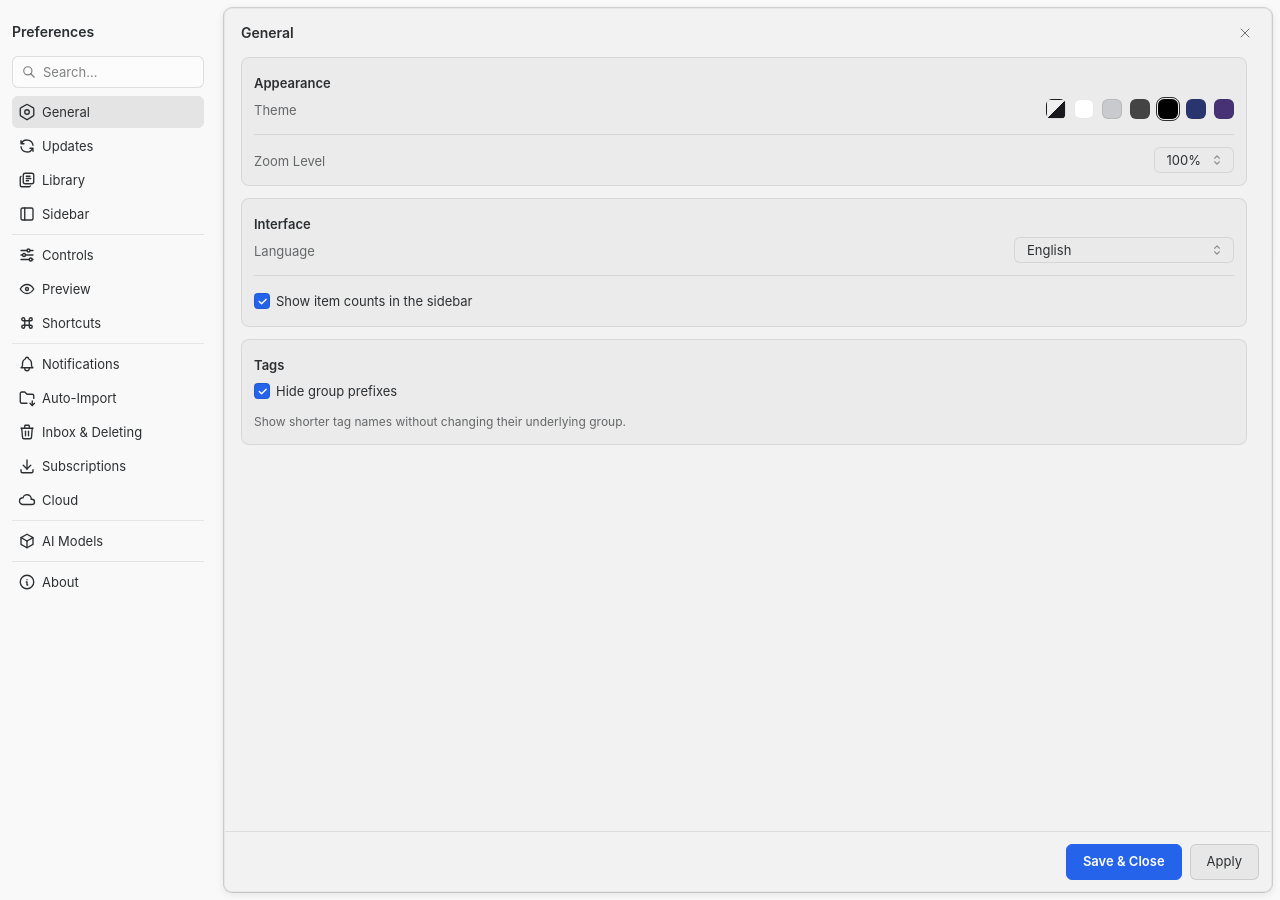
Test: Settings › uses the category registry to find and open custom panels
In the search field named "Search settings": (108, 72) [12, 56, 204, 88], type "theme"
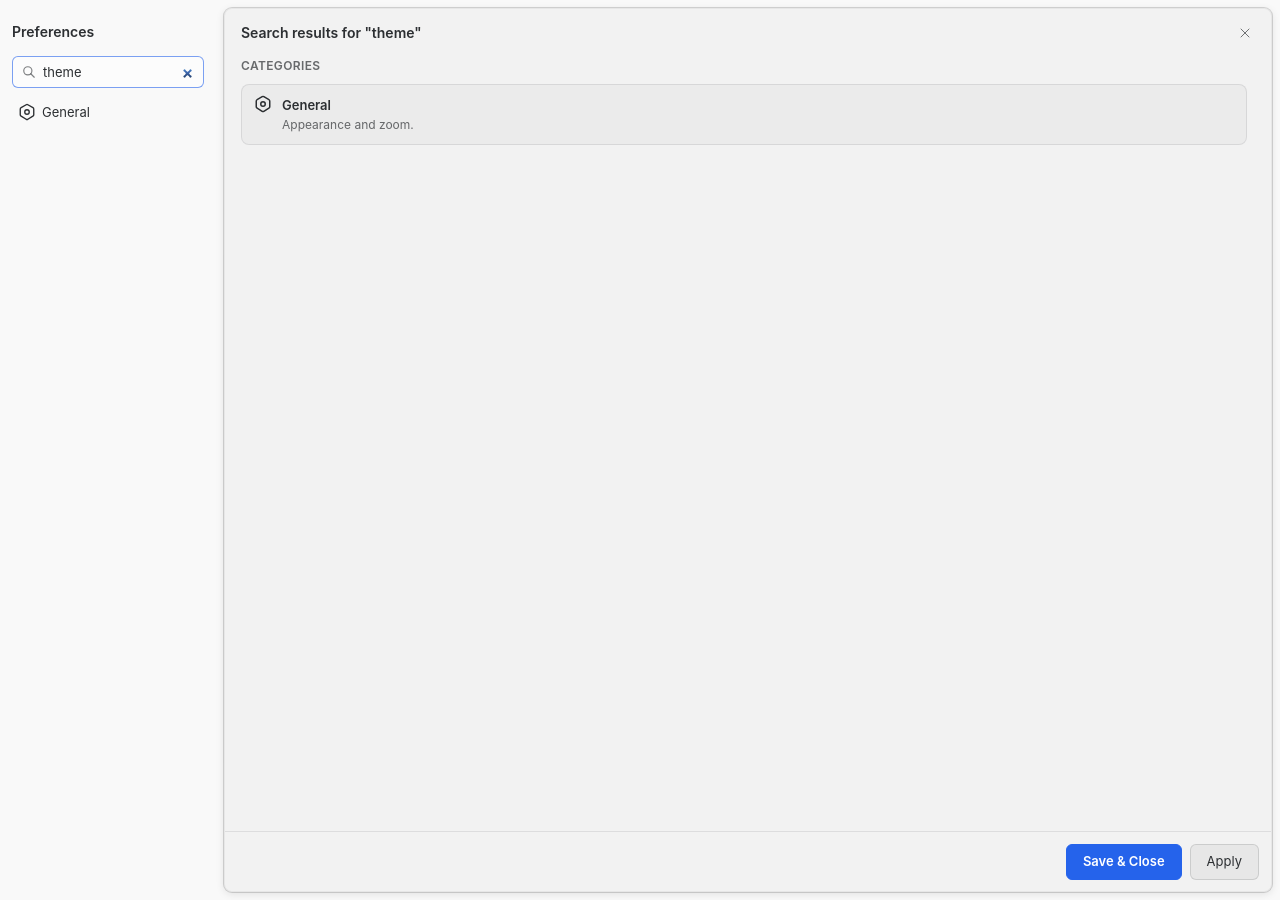
Click the button "General Appearance and zoom.": (306, 105) [241, 84, 1247, 144]
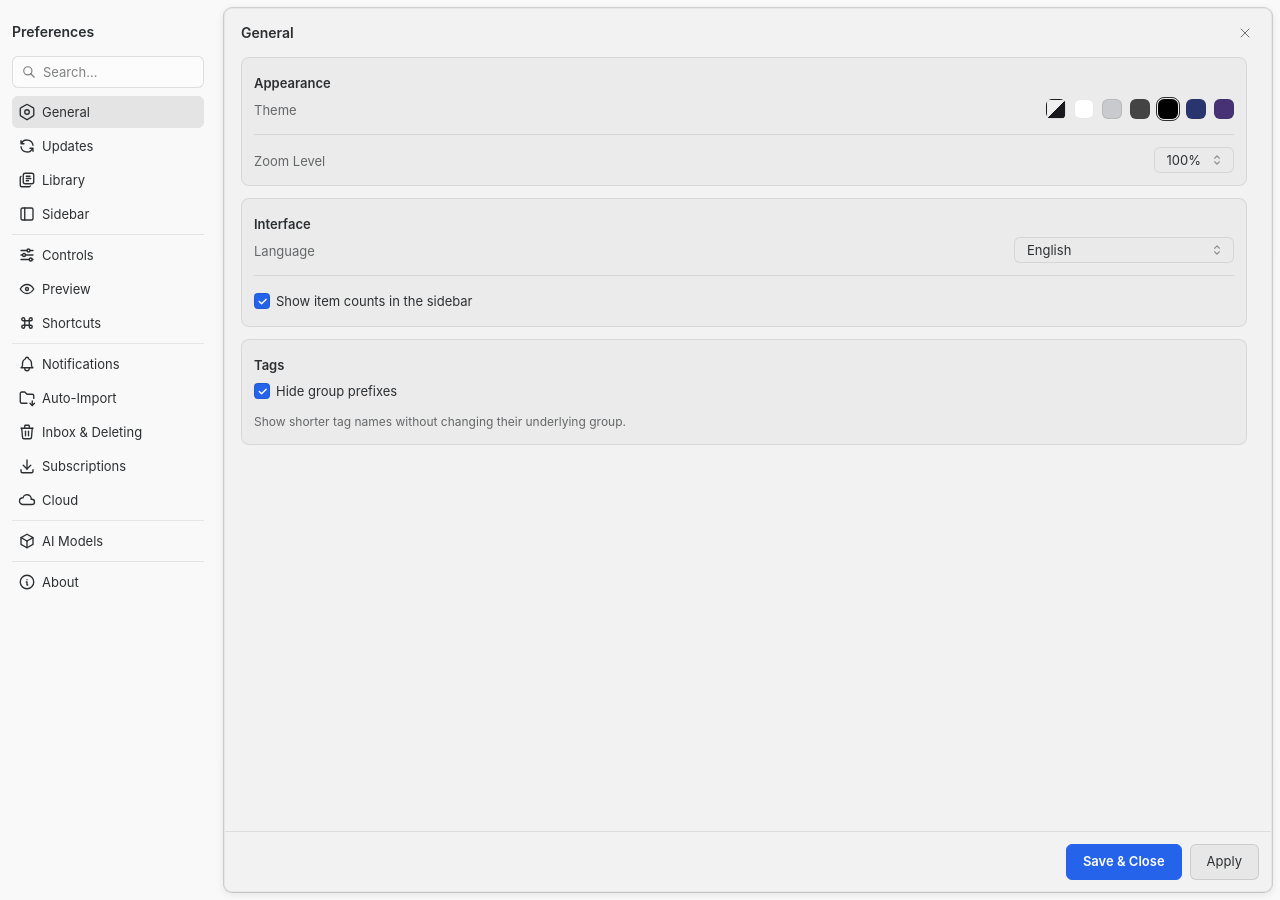
expect the text "Appearance" is shown: met, box [254, 75, 331, 91]
expect the text "Search results for" is gone: met
